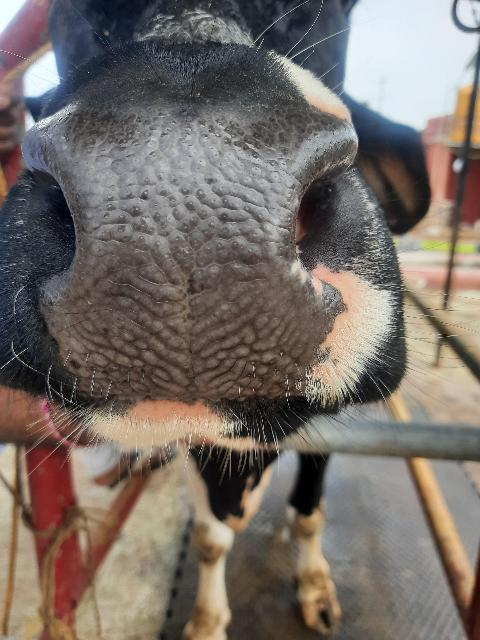Muzzle: (45, 116, 331, 398)
